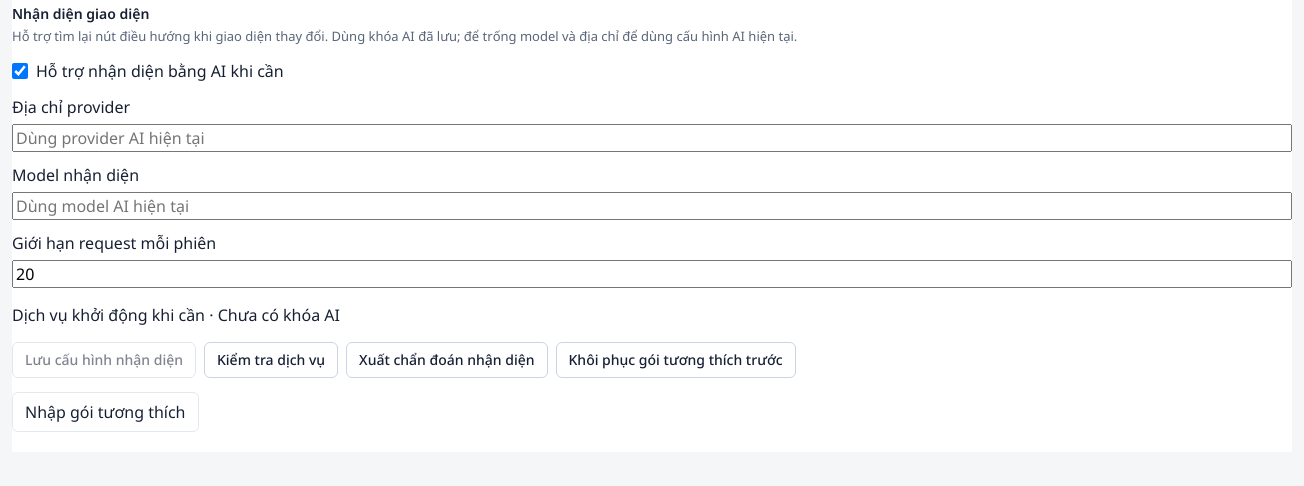
Test: GUI perception configuration › rejects an invalid budget before saving
Replace the text in the number field with "0" at (652, 274), box [12, 260, 1292, 288]
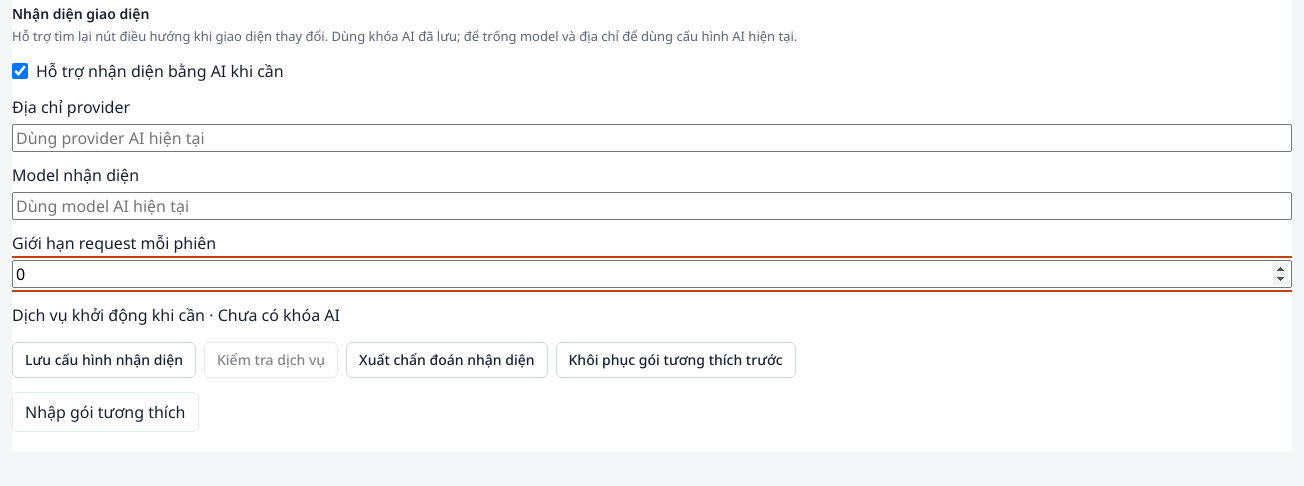
Click the button "Lưu cấu hình nhận diện".
click(104, 360)  # box [12, 342, 196, 378]
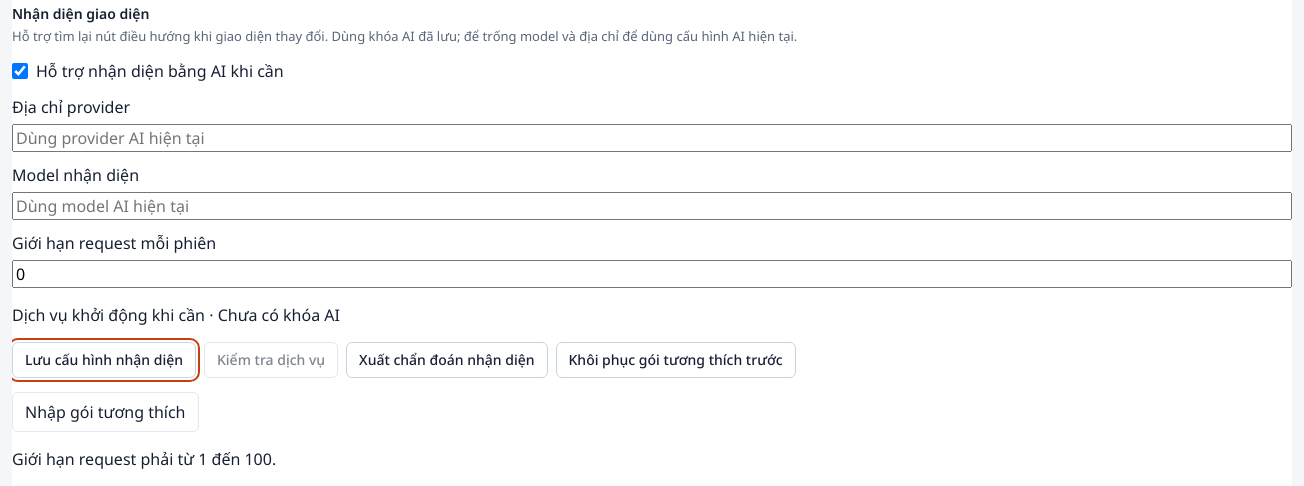
expect the text "Giới hạn request phải từ 1 đến 100." is shown: met, box [12, 448, 276, 470]
